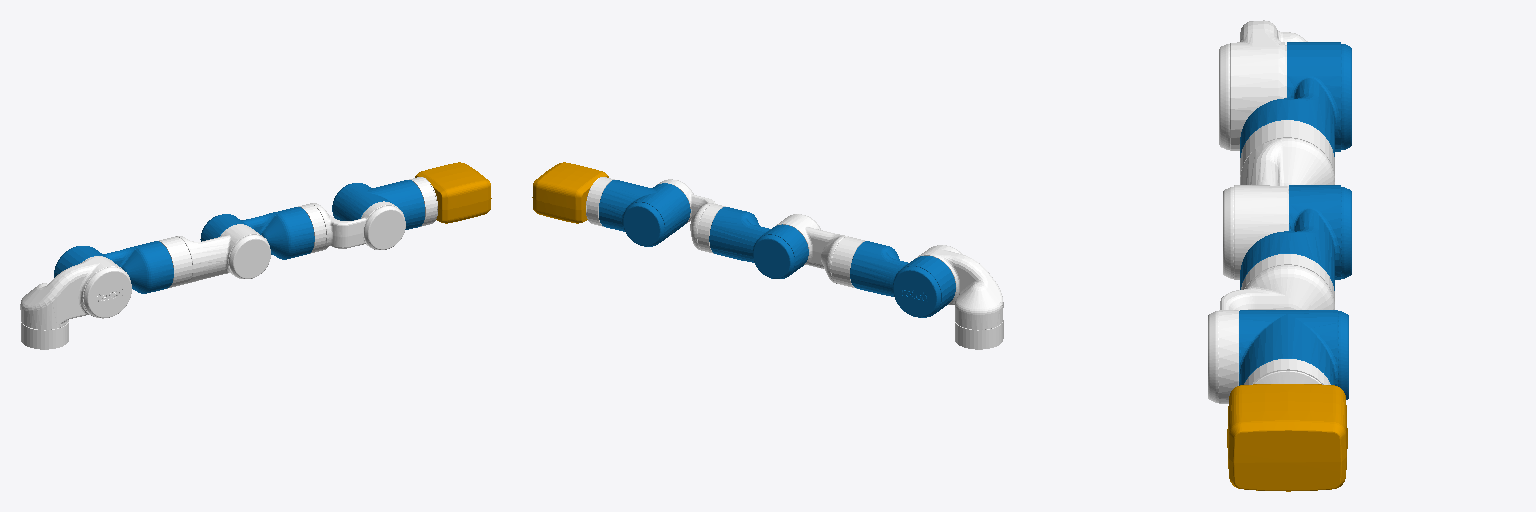
The robot description file, URDF, robot "fetch":
<?xml version="1.0" ?>
<robot name="fetch">
  <link name="base_link">
    <inertial>
      <origin rpy="1.56 0 0" xyz="-0.0036 0.0 0.0014" />
      <mass value="70.1294" />
      <inertia ixx="1.225" ixy="0.0099" ixz="0.0062" iyy="1.2853" iyz="-0.0034" izz="0.987" />
    </inertial>
    <visual>
      <origin rpy="0 0 0" xyz="0 0 0" />
      <geometry>
        <mesh filename="../meshes/base_link.dae" />
      </geometry>
      <material name="mat0">
        <color rgba="0.356 0.361 0.376 1" />
      </material>
    </visual>
    <collision>
      <origin rpy="0 0 0" xyz="0 0 0.2" />
      <geometry>
        <cylinder length="0.32" radius="0.285"/>
      </geometry>
    </collision>
    <collision>
      <origin rpy="1.56 0 0" xyz="0.1655 0.12 0.0325" />
      <geometry>
        <cylinder length="0.03" radius="0.03"/>
      </geometry>
    </collision>
    <collision>
      <origin rpy="1.56 0 0" xyz="0.1655 -0.12 0.0325" />
      <geometry>
        <cylinder length="0.03" radius="0.03"/>
      </geometry>
    </collision>
    <collision>
      <origin rpy="1.56 0 0" xyz="-0.21 0.12 0.0325" />
      <geometry>
        <cylinder length="0.03" radius="0.03"/>
      </geometry>
    </collision>
    <collision>
      <origin rpy="1.56 0 0" xyz="-0.21 -0.12 0.0325" />
      <geometry>
        <cylinder length="0.03" radius="0.03"/>
      </geometry>
    </collision>
  </link>
  <link name="shoulder_pan_link">
    <inertial>
      <origin rpy="0 0 0" xyz="0.0927 -0.0056 0.0564" />
      <mass value="2.5587" />
      <inertia ixx="0.0043" ixy="-0.0001" ixz="0.001" iyy="0.0087" iyz="-0.0001" izz="0.0087" />
    </inertial>
    <visual>
      <origin rpy="0 0 0" xyz="0 0 0" />
      <geometry>
        <mesh filename="../meshes/shoulder_pan_link.dae" />
      </geometry>
      <material name="6">
        <color rgba="1 1 1 1" />
      </material>
    </visual>
  </link>
  <joint name="shoulder_pan_joint" type="revolute">
    <origin rpy="0 0 0" xyz="0.119525 0 0.84858" />
    <parent link="base_link" />
    <child link="shoulder_pan_link" />
    <axis xyz="0 0 1" />
    <dynamics damping="1.0" />
    <limit effort="33.82" lower="-1.6056" upper="1.6056" velocity="1.256" />
  </joint>
  <link name="shoulder_lift_link">
    <inertial>
      <origin rpy="0 0 0" xyz="0.1432 0.0072 -0.0001" />
      <mass value="0.6615" />
      <inertia ixx="0.0028" ixy="-0.0021" ixz="-0.0" iyy="0.0111" iyz="-0.0" izz="0.0112" />
    </inertial>
    <visual>
      <origin rpy="0 0 0" xyz="0 0 0" />
      <geometry>
        <mesh filename="../meshes/shoulder_lift_link.dae" />
      </geometry>
      <material name="7">
        <color rgba="0.086 0.506 0.767 1" />
      </material>
    </visual>
    <collision>
      <origin rpy="0 0 0" xyz="0 0 0" />
      <geometry>
        <mesh filename="../meshes/shoulder_lift_link_collision.STL" />
      </geometry>
    </collision>
  </link>
  <joint name="shoulder_lift_joint" type="revolute">
    <origin rpy="0 0 0" xyz="0.117 0 0.0599999999999999" />
    <parent link="shoulder_pan_link" />
    <child link="shoulder_lift_link" />
    <axis xyz="0 1 0" />
    <dynamics damping="1.0" />
    <limit effort="131.76" lower="-1.221" upper="1.518" velocity="1.454" />
  </joint>
  <link name="upperarm_roll_link">
    <inertial>
      <origin rpy="0 0 0" xyz="0.1165 0.0014 0.0000" />
      <mass value="2.3311" />
      <inertia ixx="0.0019" ixy="-0.0001" ixz="0.0" iyy="0.0045" iyz="0.0" izz="0.0047" />
    </inertial>
    <visual>
      <origin rpy="0 0 0" xyz="0 0 0" />
      <geometry>
        <mesh filename="../meshes/upperarm_roll_link.dae" />
      </geometry>
      <material name="8">
        <color rgba="1 1 1 1" />
      </material>
    </visual>
    <collision>
      <origin rpy="0 0 0" xyz="0 0 0" />
      <geometry>
        <mesh filename="../meshes/upperarm_roll_link_collision.STL" />
      </geometry>
    </collision>
  </link>
  <joint name="upperarm_roll_joint" type="continuous">
    <origin rpy="0 0 0" xyz="0.219 0 0" />
    <parent link="shoulder_lift_link" />
    <child link="upperarm_roll_link" />
    <axis xyz="1 0 0" />
    <dynamics damping="5.0" />
    <limit effort="76.94" velocity="1.571" />
  </joint>
  <link name="elbow_flex_link">
    <inertial>
      <origin rpy="0 0 0" xyz="0.1279 0.0073 0.0000" />
      <mass value="0.1299" />
      <inertia ixx="0.0024" ixy="-0.0016" ixz="0.0" iyy="0.0082" iyz="-0.0" izz="0.0084" />
    </inertial>
    <visual>
      <origin rpy="0 0 0" xyz="0 0 0" />
      <geometry>
        <mesh filename="../meshes/elbow_flex_link.dae" />
      </geometry>
      <material name="9">
        <color rgba="0.086 0.506 0.767 1" />
      </material>
    </visual>
    <collision>
      <origin rpy="0 0 0" xyz="0 0 0" />
      <geometry>
        <mesh filename="../meshes/elbow_flex_link_collision.STL" />
      </geometry>
    </collision>
  </link>
  <joint name="elbow_flex_joint" type="revolute">
    <origin rpy="0 0 0" xyz="0.133 0 0" />
    <parent link="upperarm_roll_link" />
    <child link="elbow_flex_link" />
    <axis xyz="0 1 0" />
    <dynamics damping="1.0" />
    <limit effort="66.18" lower="-2.251" upper="2.251" velocity="1.521" />
  </joint>
  <link name="forearm_roll_link">
    <inertial>
      <origin rpy="0 0 0" xyz="0.1097 -0.0266 0.0000" />
      <mass value="0.6563" />
      <inertia ixx="0.0016" ixy="-0.0003" ixz="0.0" iyy="0.003" iyz="-0.0" izz="0.0035" />
    </inertial>
    <visual>
      <origin rpy="0 0 0" xyz="0 0 0" />
      <geometry>
        <mesh filename="../meshes/forearm_roll_link.dae" />
      </geometry>
      <material name="10">
        <color rgba="1 1 1 1" />
      </material>
    </visual>
    <collision>
      <origin rpy="0 0 0" xyz="0 0 0" />
      <geometry>
        <mesh filename="../meshes/forearm_roll_link_collision.STL" />
      </geometry>
    </collision>
  </link>
  <joint name="forearm_roll_joint" type="continuous">
    <origin rpy="0 0 0" xyz="0.197 0 0" />
    <parent link="elbow_flex_link" />
    <child link="forearm_roll_link" />
    <axis xyz="1 0 0" />
    <dynamics damping="5.0" />
    <limit effort="29.35" velocity="1.571" />
  </joint>
  <link name="wrist_flex_link">
    <inertial>
      <origin rpy="0 0 0" xyz="0.0882 0.0009 -0.0001" />
      <mass value="0.725" />
      <inertia ixx="0.0018" ixy="-0.0001" ixz="-0.0" iyy="0.0042" iyz="0.0" izz="0.0042" />
    </inertial>
    <visual>
      <origin rpy="0 0 0" xyz="0 0 0" />
      <geometry>
        <mesh filename="../meshes/wrist_flex_link.dae" />
      </geometry>
      <material name="11">
        <color rgba="0.086 0.506 0.767 1" />
      </material>
    </visual>
    <collision>
      <origin rpy="0 0 0" xyz="0 0 0" />
      <geometry>
        <mesh filename="../meshes/wrist_flex_link_collision.STL" />
      </geometry>
    </collision>
  </link>
  <joint name="wrist_flex_joint" type="revolute">
    <origin rpy="0 0 0" xyz="0.1245 0 0" />
    <parent link="forearm_roll_link" />
    <child link="wrist_flex_link" />
    <axis xyz="0 1 0" />
    <dynamics damping="1.0" />
    <limit effort="25.7" lower="-2.16" upper="2.16" velocity="2.268" />
  </joint>
  <link name="wrist_roll_link">
    <inertial>
      <origin rpy="0 0 0" xyz="0.0095 0.0004 -0.0002" />
      <mass value="0.1354" />
      <inertia ixx="0.0001" ixy="0.0" ixz="0.0" iyy="0.0001" iyz="0.0" izz="0.0001" />
    </inertial>
    <visual>
      <origin rpy="0 0 0" xyz="0 0 0" />
      <geometry>
        <mesh filename="../meshes/wrist_roll_link.dae" />
      </geometry>
      <material name="12">
        <color rgba="1 1 1 1" />
      </material>
    </visual>
    <collision>
      <origin rpy="0 0 0" xyz="0 0 0" />
      <geometry>
        <mesh filename="../meshes/wrist_roll_link_collision.STL" />
      </geometry>
    </collision>
  </link>
  <joint name="wrist_roll_joint" type="continuous">
    <origin rpy="0 0 0" xyz="0.1385 0 0" />
    <parent link="wrist_flex_link" />
    <child link="wrist_roll_link" />
    <axis xyz="1 0 0" />
    <limit effort="7.36" velocity="2.268" />
    <dynamics damping="5.0" />
  </joint>
  <link name="gripper_link">
    <inertial>
      <origin rpy="0 0 0" xyz="-0.0900 -0.0001 -0.0017" />
      <mass value="0.5175" />
      <inertia ixx="0.0013" ixy="-0.0" ixz="0.0" iyy="0.0019" iyz="-0.0" izz="0.0024" />
    </inertial>
    <visual>
      <origin rpy="0 0 0" xyz="0 0 0" />
      <geometry>
        <mesh filename="../meshes/gripper_link.dae" />
      </geometry>
    </visual>
    <collision>
      <origin rpy="0 0 0" xyz="0 0 0" />
      <geometry>
        <mesh filename="../meshes/gripper_link.STL" />
      </geometry>
    </collision>
  </link>
  <joint name="gripper_axis" type="fixed">
    <origin rpy="0 0 0" xyz="0.16645 0 0" />
    <parent link="wrist_roll_link" />
    <child link="gripper_link" />
    <axis xyz="0 1 0" />
  </joint>
  <link name="r_gripper_finger_link">
    <inertial>
      <origin rpy="0 0 0" xyz="-0.01 0 0" />
      <mass value="0.0798" />
      <inertia ixx="0.002" ixy="0" ixz="0" iyy="0" iyz="0" izz="0" />
    </inertial>
    <visual>
      <origin rpy="0 0 0" xyz="0 0.101425 0" />
      <geometry>
        <mesh filename="../meshes/r_gripper_finger_link.STL" />
      </geometry>
      <material name="13">
        <color rgba="0.356 0.361 0.376 1" />
      </material>
    </visual>
    <collision>
      <origin rpy="0 0 0" xyz="0 0.101425 0" />
      <geometry>
        <mesh filename="../meshes/r_gripper_finger_link.STL" />
      </geometry>
    </collision>
  </link>
  <joint name="r_gripper_finger_joint" type="prismatic">
    <origin rpy="0 0 0" xyz="0 0.015425 0" />
    <parent link="gripper_link" />
    <child link="r_gripper_finger_link" />
    <axis xyz="0 1 0" />
  <limit effort="60" lower="0.0" upper="0.05" velocity="0.05" /><dynamics damping="100.0" /></joint>
  <link name="l_gripper_finger_link">
    <inertial>
      <origin rpy="0 0 0" xyz="-0.01 0 0" />
      <mass value="0.0798" />
      <inertia ixx="0.002" ixy="0" ixz="0" iyy="0" iyz="0" izz="0" />
    </inertial>
    <visual>
      <origin rpy="0 0 0" xyz="0 -0.101425 0" />
      <geometry>
        <mesh filename="../meshes/l_gripper_finger_link.STL" />
      </geometry>
      <material name="14">
        <color rgba="0.356 0.361 0.376 1" />
      </material>
    </visual>
    <collision>
      <origin rpy="0 0 0" xyz="0 -0.101425 0" />
      <geometry>
        <mesh filename="../meshes/l_gripper_finger_link.STL" />
      </geometry>
    </collision>
  </link>
  <joint name="l_gripper_finger_joint" type="prismatic">
    <origin rpy="0 0 0" xyz="0 -0.015425 0" />
    <parent link="gripper_link" />
    <child link="l_gripper_finger_link" />
    <axis xyz="0 -1 0" />
  <limit effort="60" lower="0.0" upper="0.05" velocity="0.05" /><dynamics damping="100.0" /></joint>
  <!-- ee_link: virtual -->
  <joint name="virtual_ee_joint" type="fixed">
    <parent link="wrist_roll_link"/>
    <child link="virtual_ee_link"/>
    <origin rpy="0 0 0" xyz="0 0 0.045"/>
  </joint>
  <link name="virtual_ee_link">
    <inertial>
      <origin rpy="0 0 0" xyz="0 0 0"/>
      <mass value="0"/>
      <inertia ixx="0" ixy="0" ixz="0" iyy="0" iyz="0" izz="0"/>
    </inertial>
  </link>
</robot>

--- What the picture shows (computed from the rendered views, not written in the file) ---
3 views of the same robot in one strip: view 1: azimuth 30°, elevation 25°; view 2: azimuth 150°, elevation 25°; view 3: azimuth 270°, elevation 25° (orthographic).
Model fetch with 12 links and 11 joints (4 revolute, 3 continuous, 2 prismatic, 2 fixed), rooted at base_link, posed every joint at zero.
Visible links, largest first — view 1: shoulder_pan_link, upperarm_roll_link, forearm_roll_link, elbow_flex_link, gripper_link, shoulder_lift_link, wrist_flex_link, wrist_roll_link; view 2: shoulder_lift_link, elbow_flex_link, wrist_flex_link, shoulder_pan_link, gripper_link, upperarm_roll_link, forearm_roll_link, wrist_roll_link; view 3: gripper_link, upperarm_roll_link, forearm_roll_link, shoulder_lift_link, wrist_flex_link, shoulder_pan_link, elbow_flex_link, wrist_roll_link.
Boxes of the visible links, x1=… form: shoulder_pan_link: x1=20, y1=256, x2=131, y2=349; upperarm_roll_link: x1=159, y1=224, x2=270, y2=288; forearm_roll_link: x1=298, y1=201, x2=405, y2=253; elbow_flex_link: x1=200, y1=207, x2=314, y2=259; gripper_link: x1=415, y1=162, x2=491, y2=223; shoulder_lift_link: x1=54, y1=241, x2=173, y2=293; wrist_flex_link: x1=332, y1=180, x2=424, y2=229; wrist_roll_link: x1=409, y1=177, x2=437, y2=226; shoulder_lift_link: x1=850, y1=241, x2=955, y2=317; elbow_flex_link: x1=709, y1=207, x2=808, y2=278; wrist_flex_link: x1=599, y1=180, x2=690, y2=246; shoulder_pan_link: x1=915, y1=245, x2=1003, y2=349; gripper_link: x1=532, y1=162, x2=608, y2=223; upperarm_roll_link: x1=776, y1=214, x2=864, y2=288; forearm_roll_link: x1=657, y1=179, x2=725, y2=253; wrist_roll_link: x1=586, y1=177, x2=614, y2=226; gripper_link: x1=1227, y1=384, x2=1347, y2=491; upperarm_roll_link: x1=1223, y1=120, x2=1334, y2=279; forearm_roll_link: x1=1208, y1=254, x2=1334, y2=403; shoulder_lift_link: x1=1240, y1=42, x2=1351, y2=157; wrist_flex_link: x1=1239, y1=310, x2=1348, y2=399; shoulder_pan_link: x1=1219, y1=20, x2=1307, y2=150; elbow_flex_link: x1=1240, y1=185, x2=1351, y2=290; wrist_roll_link: x1=1244, y1=359, x2=1330, y2=384.
Bounding box of the posed robot: 1.12 × 0.1575 × 0.1685 m (x, y, z).
Meshes: 11 distinct files referenced, 8 mesh visuals loaded (8 Collada DAE); not drawn: 3 (reference not matched to a file when rendering).